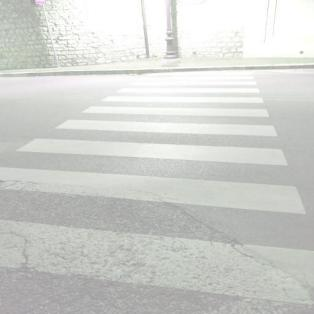Paso de Cebra: (0, 117, 293, 171), (114, 80, 265, 95)
